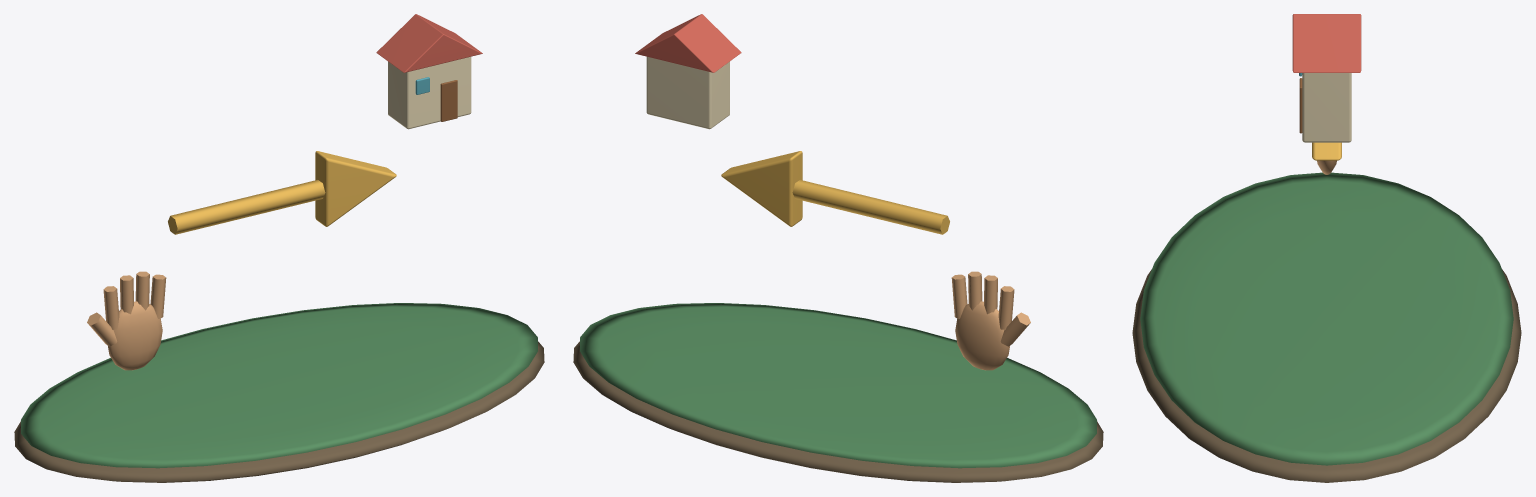
Rendered from complete-first-that-far-away.glb.
The picture shows the model from 3 angles, left to right: view 1: azimuth 30°, elevation 25°; view 2: azimuth 150°, elevation 25°; view 3: azimuth 270°, elevation 25°; orthographic projection. The views are drawn at different scales.
Visible parts, largest first — view 1: complete-first-that-far-away_surface_01, complete-first-that-far-away_surface_00, complete-first-that-far-away_surface_02, complete-first-that-far-away_surface_07, complete-first-that-far-away_surface_03, complete-first-that-far-away_surface_04, complete-first-that-far-away_surface_05; view 2: complete-first-that-far-away_surface_01, complete-first-that-far-away_surface_00, complete-first-that-far-away_surface_02, complete-first-that-far-away_surface_07, complete-first-that-far-away_surface_03, complete-first-that-far-away_surface_04; view 3: complete-first-that-far-away_surface_01, complete-first-that-far-away_surface_00, complete-first-that-far-away_surface_04, complete-first-that-far-away_surface_03, complete-first-that-far-away_surface_02.
Boxes of the visible parts, <box> form: complete-first-that-far-away_surface_01: <box>21,303,537,468</box>; complete-first-that-far-away_surface_00: <box>14,341,544,482</box>; complete-first-that-far-away_surface_02: <box>168,151,396,234</box>; complete-first-that-far-away_surface_07: <box>87,271,166,370</box>; complete-first-that-far-away_surface_03: <box>388,56,471,129</box>; complete-first-that-far-away_surface_04: <box>376,14,482,72</box>; complete-first-that-far-away_surface_05: <box>440,80,457,121</box>; complete-first-that-far-away_surface_01: <box>580,303,1096,468</box>; complete-first-that-far-away_surface_00: <box>573,341,1103,482</box>; complete-first-that-far-away_surface_02: <box>721,151,949,234</box>; complete-first-that-far-away_surface_07: <box>951,271,1030,370</box>; complete-first-that-far-away_surface_03: <box>646,56,729,129</box>; complete-first-that-far-away_surface_04: <box>635,14,741,72</box>; complete-first-that-far-away_surface_01: <box>1140,172,1513,465</box>; complete-first-that-far-away_surface_00: <box>1132,269,1521,482</box>; complete-first-that-far-away_surface_04: <box>1292,14,1361,72</box>; complete-first-that-far-away_surface_03: <box>1302,73,1351,142</box>; complete-first-that-far-away_surface_02: <box>1312,142,1341,160</box>.
Size of the model in its own units: 4.56 by 3.02 by 2.5.
